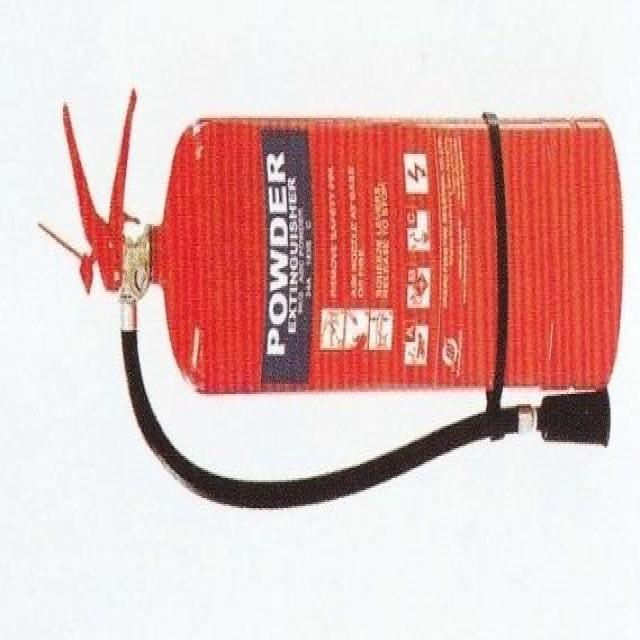fire_extinguisher: (52, 75, 628, 513)
